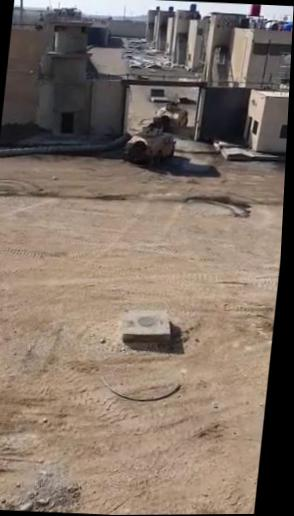armored_car: (122, 121, 177, 166), (151, 101, 189, 132)
